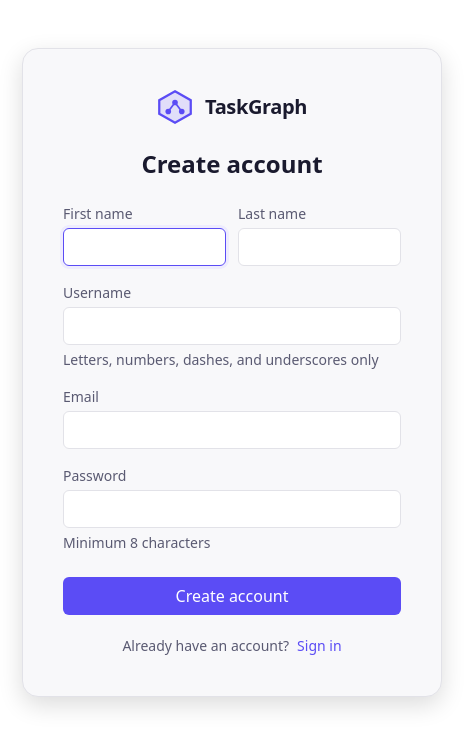
RegisterView › shows error when first name is empty
This screenshot has width=465, height=756.
Click the button "Create account": (232, 596) [63,576,401,614]
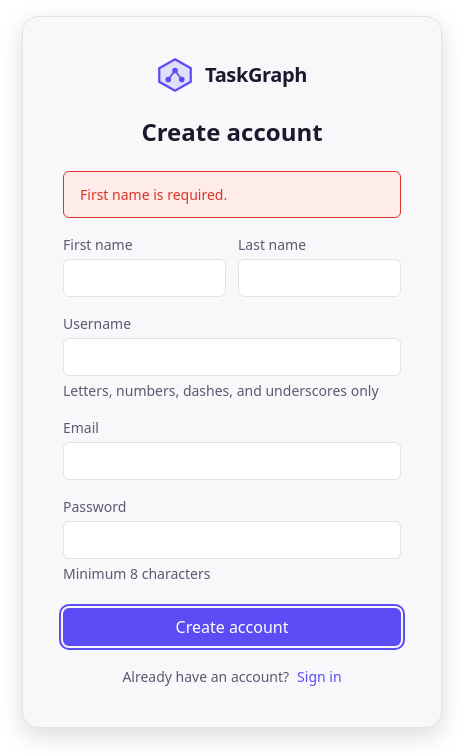
Expected: the message shows "First name is required", [80,185,227,204]
